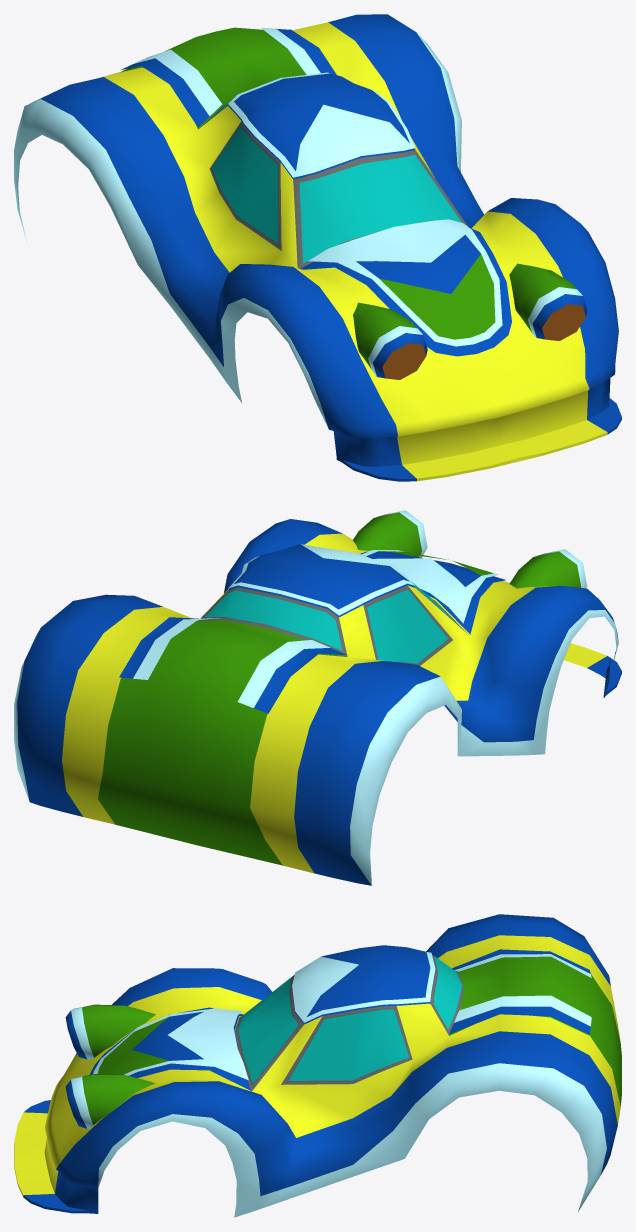
Rendered from LuxCasing02E01.gltf.
3 views of the same model, one above another, from view 1: azimuth 30°, elevation 25°; view 2: azimuth 150°, elevation 25°; view 3: azimuth 270°, elevation 25° (orthographic). The views are drawn at different scales.
Visible parts, largest first — view 1: LuxCasing02E01; view 2: LuxCasing02E01; view 3: LuxCasing02E01.
Boxes of the visible parts, x1,y1,x2,y2 form: LuxCasing02E01: (14, 14, 621, 481); LuxCasing02E01: (14, 510, 621, 885); LuxCasing02E01: (14, 914, 621, 1217).
Bounding box in the file's own units: 0.2179 × 0.1234 × 0.3506.
1 material, 1 textured.
